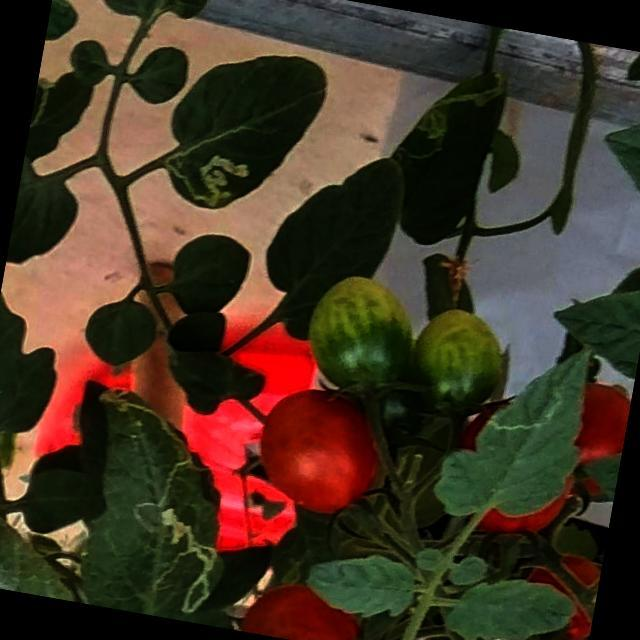Tomato target spot leaf: (58, 372, 260, 627), (422, 318, 600, 542), (154, 32, 334, 231), (377, 48, 518, 259), (94, 0, 221, 39)
